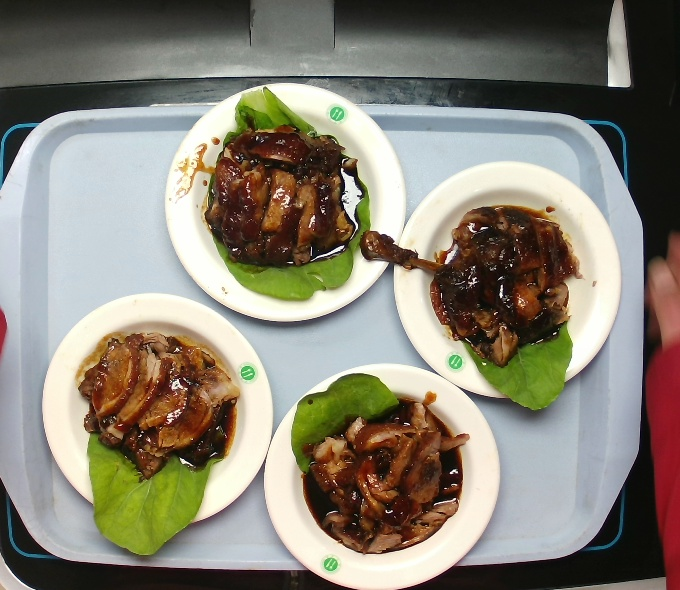wcq-MiZhiYa: (71, 321, 247, 552), (291, 367, 467, 564), (419, 206, 587, 389), (195, 111, 372, 284)
